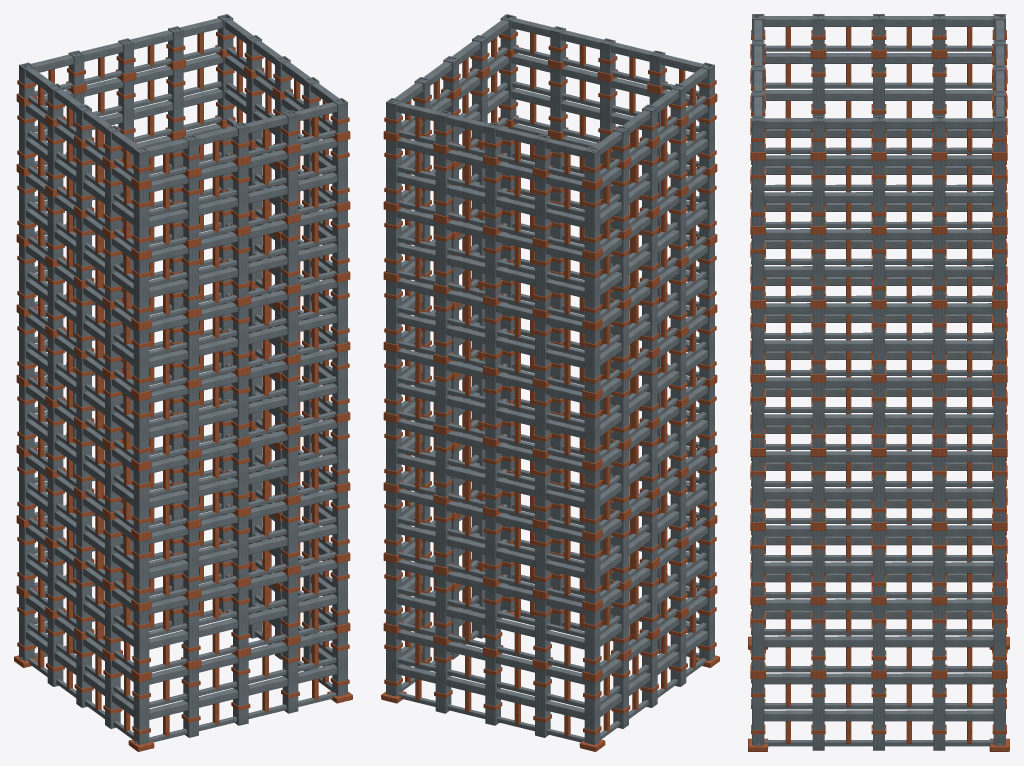
The picture shows the model from 3 angles, left to right: view 1: azimuth 30°, elevation 25°; view 2: azimuth 150°, elevation 25°; view 3: azimuth 270°, elevation 25°; orthographic projection. The views are drawn at different scales.
Visible parts, largest first — view 1: Tier 0 side 0 post 0, Tier 4 side 0 post 0, Tier 7 side 0 post 0, Tier 5 side 0 post 0, Tier 6 side 0 post 0, Tier 3 side 0 post 0, Tier 2 side 0 post 0, Tier 1 side 0 post 0, Tier 0 side 0 post 3, Tier 0 side 0 post 2, Tier 0 side 0 post 1, Tier 7 side 0 post 3 (+64 smaller); view 2: Tier 0 side 3 post 0, Tier 4 side 3 post 0, Tier 7 side 3 post 0, Tier 5 side 3 post 0, Tier 6 side 3 post 0, Tier 3 side 3 post 0, Tier 1 side 3 post 0, Tier 2 side 3 post 0, Tier 0 side 2 post 1, Tier 0 side 2 post 2, Tier 0 side 2 post 3, Tier 3 side 2 post 1 (+64 smaller); view 3: Tier 0 side 1 post 1, Tier 0 side 1 post 3, Tier 0 side 1 post 2, Tier 0 side 1 post 0, Tier 0 side 2 post 0, Tier 1 side 1 post 0, Tier 1 side 1 post 1, Tier 1 side 1 post 3, Tier 1 side 2 post 0, Tier 4 side 1 post 0, Tier 4 side 1 post 1, Tier 4 side 1 post 3 (+111 smaller).
Boxes of the visible parts, x1,y1,x2,y2 form: Tier 0 side 0 post 0: [133, 679, 149, 744]; Tier 4 side 0 post 0: [133, 398, 149, 463]; Tier 7 side 0 post 0: [133, 187, 149, 252]; Tier 5 side 0 post 0: [133, 328, 149, 392]; Tier 6 side 0 post 0: [133, 257, 149, 322]; Tier 3 side 0 post 0: [133, 468, 149, 533]; Tier 2 side 0 post 0: [133, 538, 149, 603]; Tier 1 side 0 post 0: [133, 609, 149, 674]; Tier 0 side 0 post 3: [282, 643, 298, 713]; Tier 0 side 0 post 2: [233, 655, 248, 725]; Tier 0 side 0 post 1: [183, 668, 198, 737]; Tier 7 side 0 post 3: [282, 152, 298, 216]; Tier 0 side 3 post 0: [584, 679, 600, 744]; Tier 4 side 3 post 0: [584, 398, 600, 463]; Tier 7 side 3 post 0: [584, 187, 600, 252]; Tier 5 side 3 post 0: [584, 328, 600, 392]; Tier 6 side 3 post 0: [584, 257, 600, 322]; Tier 3 side 3 post 0: [584, 468, 600, 533]; Tier 1 side 3 post 0: [584, 609, 600, 674]; Tier 2 side 3 post 0: [584, 538, 600, 603]; Tier 0 side 2 post 1: [435, 643, 451, 713]; Tier 0 side 2 post 2: [485, 656, 500, 725]; Tier 0 side 2 post 3: [535, 668, 550, 737]; Tier 3 side 2 post 1: [435, 433, 451, 497]; Tier 0 side 1 post 1: [812, 679, 824, 750]; Tier 0 side 1 post 3: [933, 679, 945, 750]; Tier 0 side 1 post 2: [873, 679, 884, 750]; Tier 0 side 1 post 0: [752, 679, 764, 745]; Tier 0 side 2 post 0: [993, 679, 1005, 745]; Tier 1 side 1 post 0: [752, 605, 764, 670]; Tier 1 side 1 post 1: [812, 605, 824, 670]; Tier 1 side 1 post 3: [933, 605, 945, 670]; Tier 1 side 2 post 0: [993, 605, 1005, 670]; Tier 4 side 1 post 0: [752, 382, 764, 448]; Tier 4 side 1 post 1: [812, 382, 824, 448]; Tier 4 side 1 post 3: [933, 382, 945, 448].
Size of the model in its own units: 1.95 by 5.17 by 1.95.
2 materials, 2 textured.
